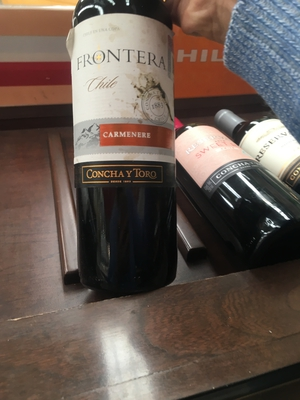frontera carmenere: (61, 5, 198, 329)
